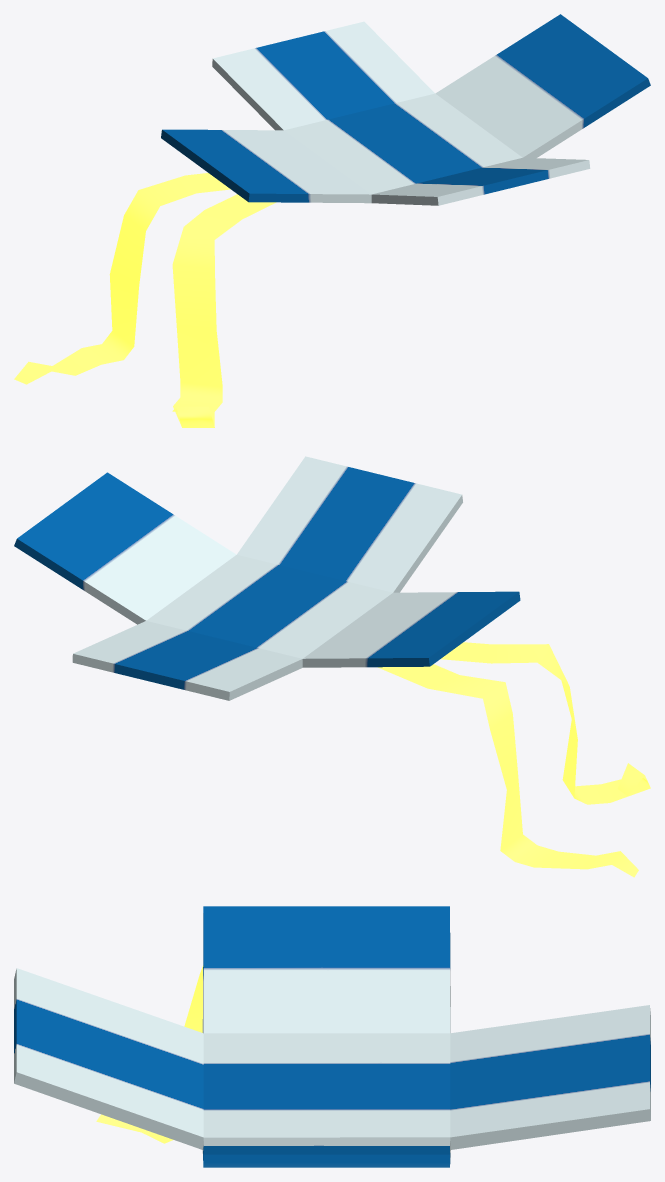
File: PresentOpen03_Art.fbx
3 views of the same model, one above another, from view 1: azimuth 30°, elevation 25°; view 2: azimuth 150°, elevation 25°; view 3: azimuth 270°, elevation 25° (orthographic). The views are drawn at different scales.
Parts seen in each view (by area): view 1: PresentOpen03_Art; view 2: PresentOpen03_Art; view 3: PresentOpen03_Art.
Part boxes in pixels (bbox=[...]): PresentOpen03_Art: bbox=[14, 14, 650, 427]; PresentOpen03_Art: bbox=[14, 456, 650, 877]; PresentOpen03_Art: bbox=[14, 906, 650, 1167].
Bounding box in the file's own units: 3.2 × 1.1 × 2.18.
